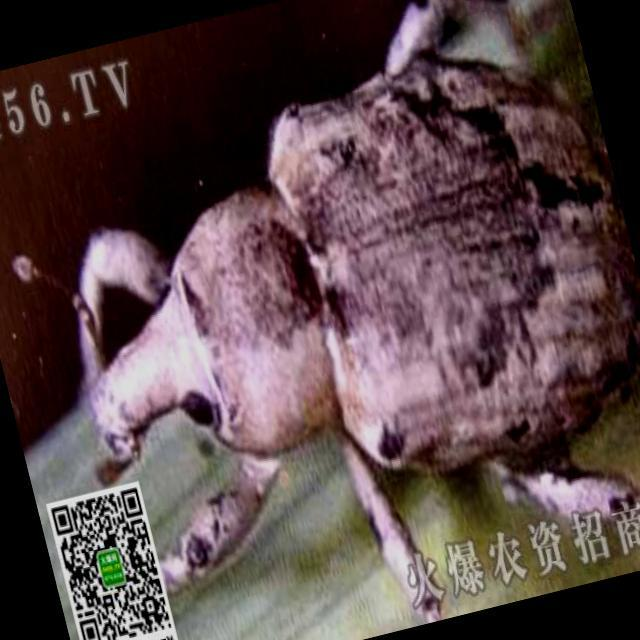ricebug: (94, 0, 639, 531)
